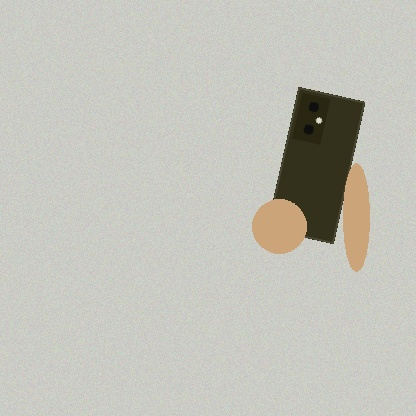cell_phone: (266, 87, 365, 244)
